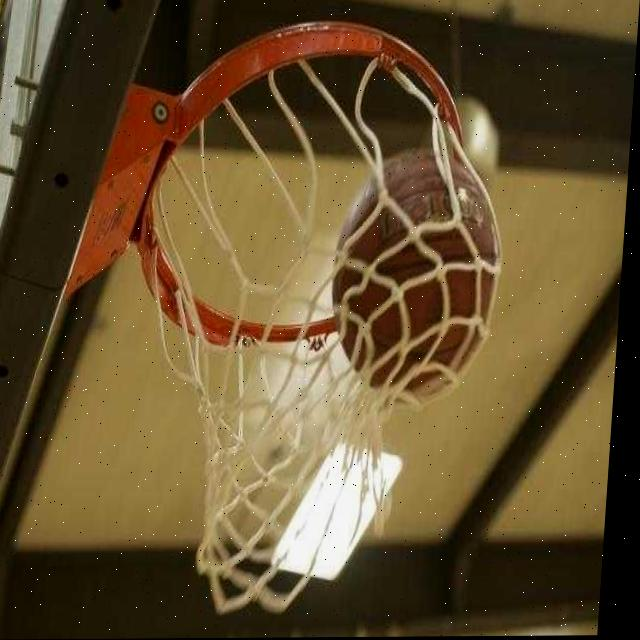basketball: (323, 147, 510, 401)
hoop: (78, 0, 545, 627), (78, 0, 546, 622)
